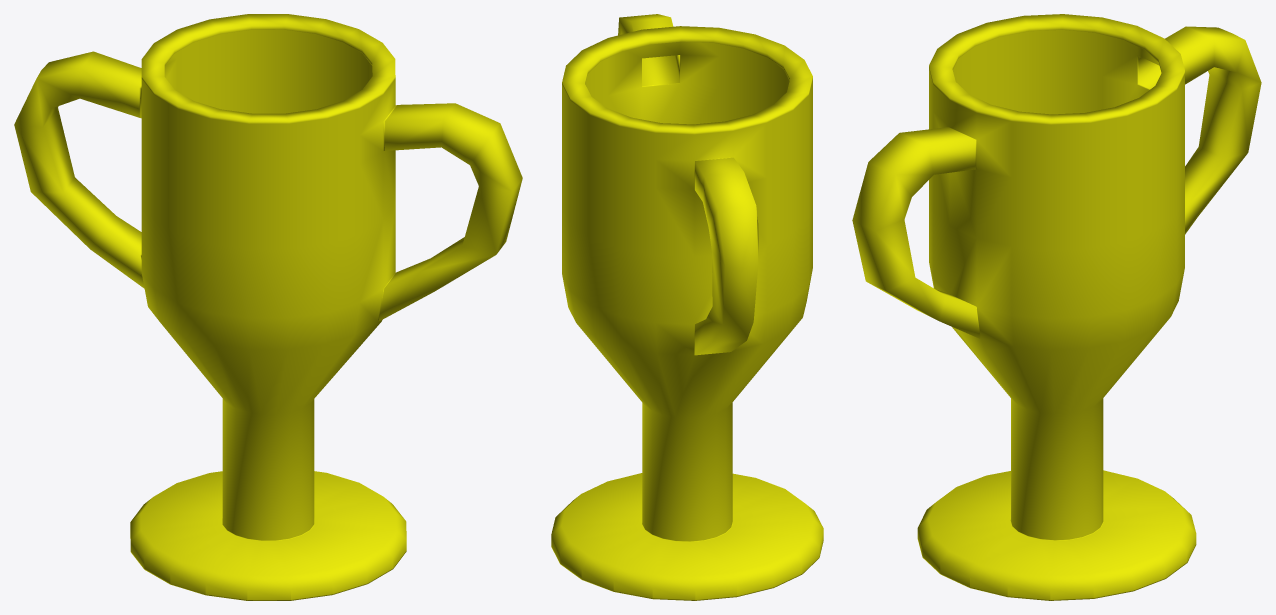
The model's file is Gold trophy_2 - Proxy.fbx.
3 views of the same model, side by side, from view 1: azimuth 30°, elevation 25°; view 2: azimuth 150°, elevation 25°; view 3: azimuth 270°, elevation 25° (orthographic). The views are drawn at different scales.
Parts seen in each view (by area): view 1: Gold trophy_02; view 2: Gold trophy_02; view 3: Gold trophy_02.
Part boxes in pixels (<box>): Gold trophy_02: <box>14,14,522,600</box>; Gold trophy_02: <box>551,14,823,600</box>; Gold trophy_02: <box>852,14,1261,600</box>.
Bounding box in the file's own units: 36.12 × 50.18 × 39.26.
